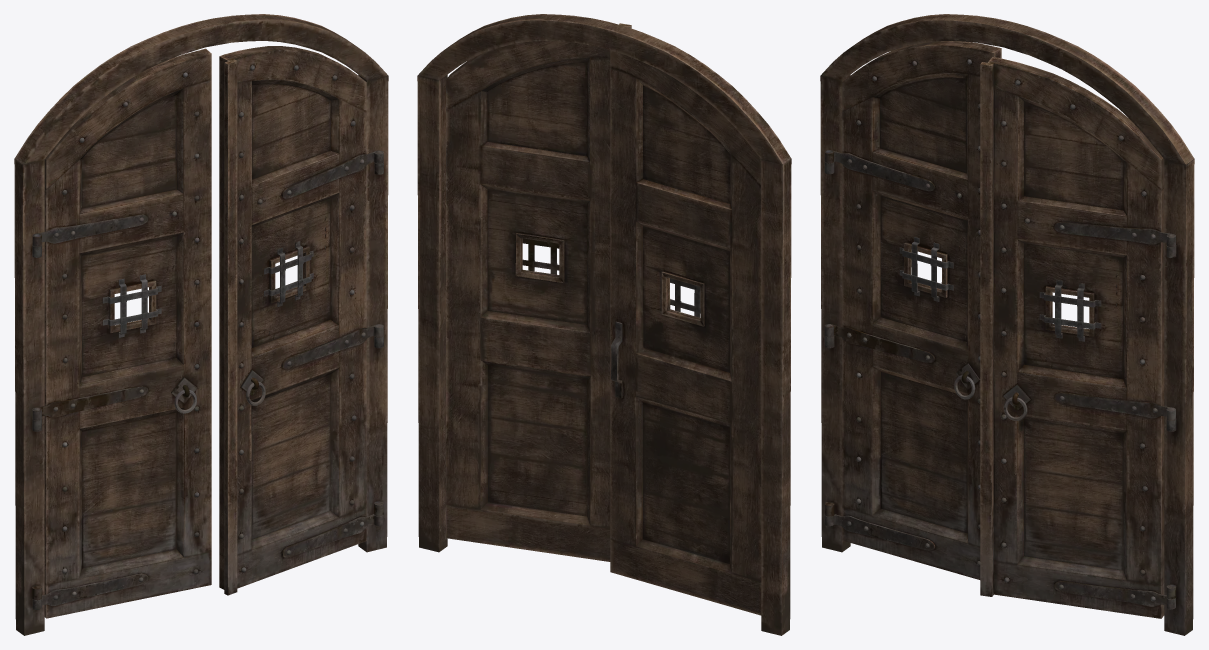
File: large_castle_door.optimized.glb
3 renders of one model, left to right at view 1: azimuth 30°, elevation 25°; view 2: azimuth 150°, elevation 25°; view 3: azimuth 330°, elevation 25°, orthographic.
Parts seen in each view (by area): view 1: large_castle_door_frame; view 2: large_castle_door_frame; view 3: large_castle_door_frame.
Part boxes in pixels (x1,y1,x2,y2): large_castle_door_frame: (14,14,388,635); large_castle_door_frame: (417,14,791,635); large_castle_door_frame: (820,14,1194,635).
Size of the model in its own units: 2.01 by 2.96 by 0.2964.
1 material, 1 textured.
